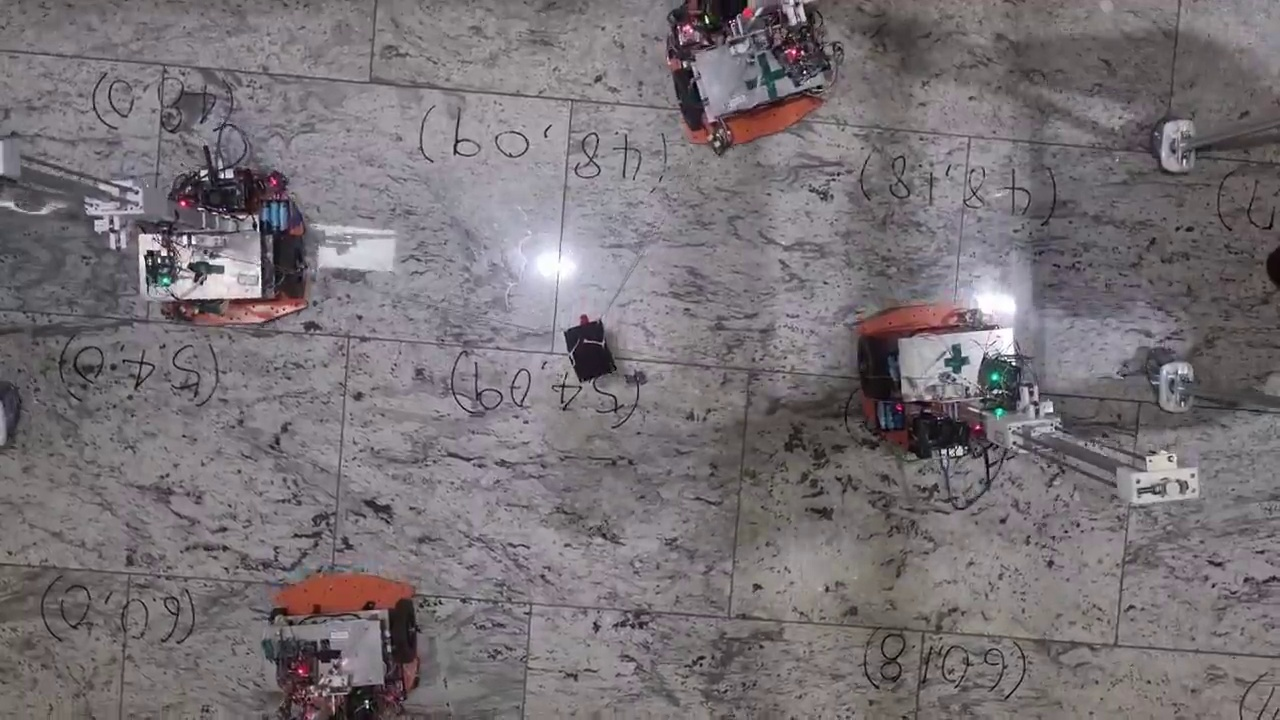e0: (565, 318, 617, 383)
r1: (858, 327, 1021, 400)
r2: (673, 20, 827, 131)
r3: (146, 231, 308, 300)
r4: (267, 598, 422, 670)
y_+_axis_vector: (573, 100, 971, 137)
y_-_axis_vector: (164, 65, 573, 100)
